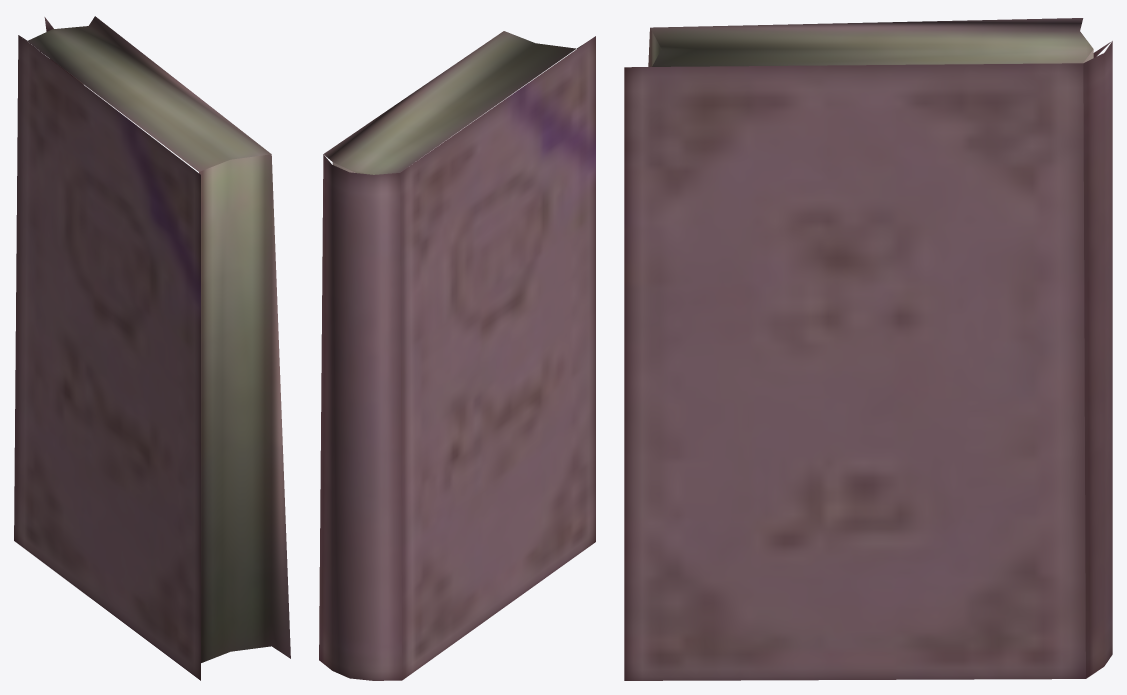
The model's file is diary.glb.
The picture shows the model from 3 angles, left to right: view 1: azimuth 30°, elevation 25°; view 2: azimuth 150°, elevation 25°; view 3: azimuth 270°, elevation 25°; orthographic projection. The views are drawn at different scales.
Visible parts, largest first — view 1: diary; view 2: diary; view 3: diary.
Boxes of the visible parts, bbox=[...] form: diary: bbox=[14, 16, 290, 680]; diary: bbox=[319, 31, 595, 680]; diary: bbox=[624, 18, 1112, 680].
Bounding box in the file's own units: 0.0587 × 0.3156 × 0.2276.
1 material, 1 textured.
